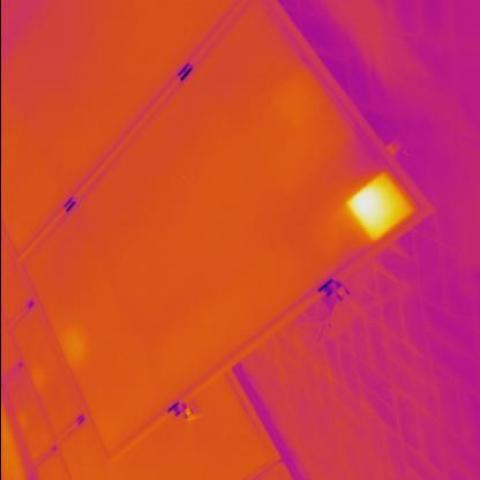fault: (352, 183, 398, 231)
